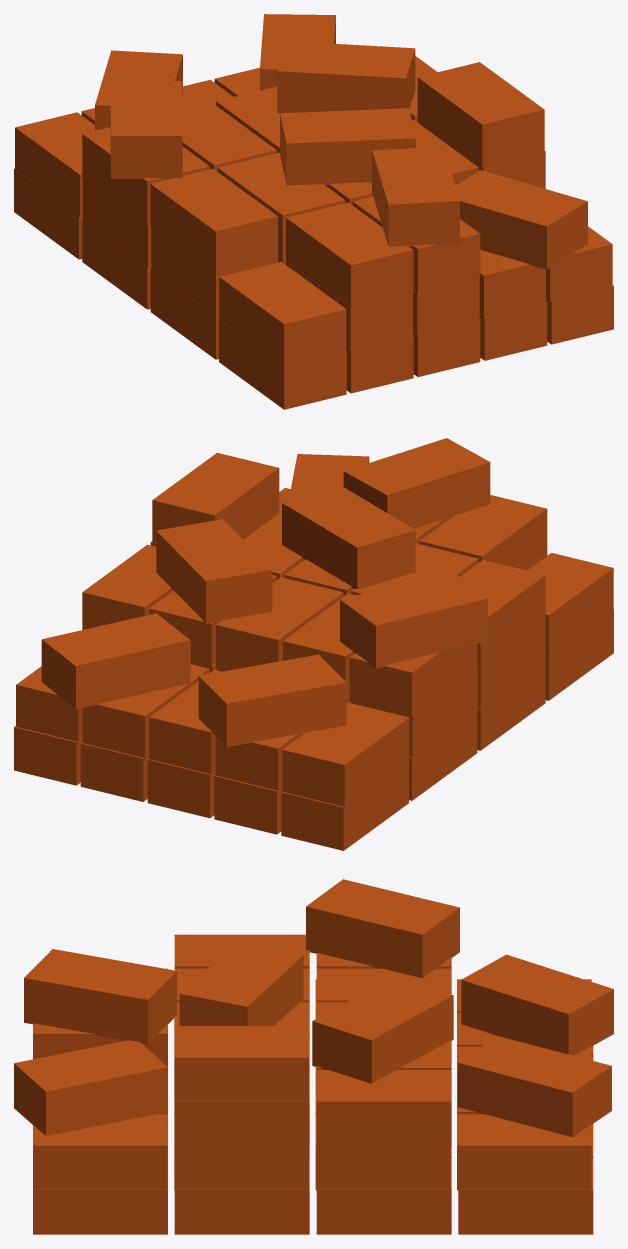
3 renders of one model, top to bottom at view 1: azimuth 30°, elevation 25°; view 2: azimuth 150°, elevation 25°; view 3: azimuth 270°, elevation 25°, orthographic. The views are drawn at different scales.
Parts seen in each view (by area): view 1: A-9; view 2: A-9; view 3: A-9.
Boxes of the visible parts, box(x1,y1,x2,y2) form: A-9: box(14, 14, 613, 409); A-9: box(14, 438, 613, 850); A-9: box(14, 879, 613, 1234).
Size of the model in its own units: 328 by 151 by 465.
